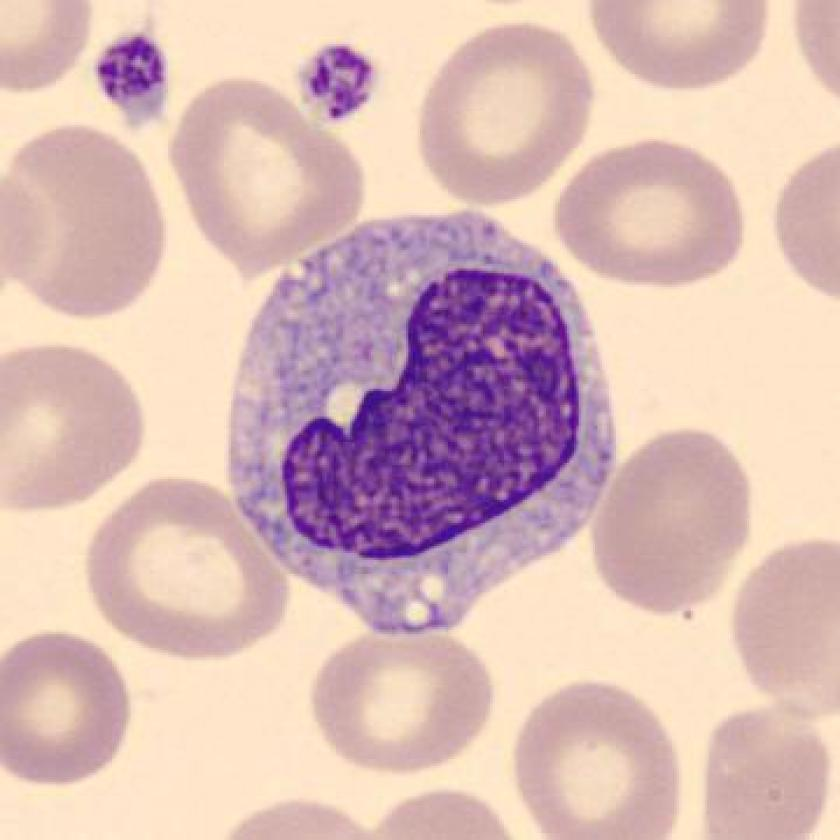monocyte: (211, 195, 640, 663)
